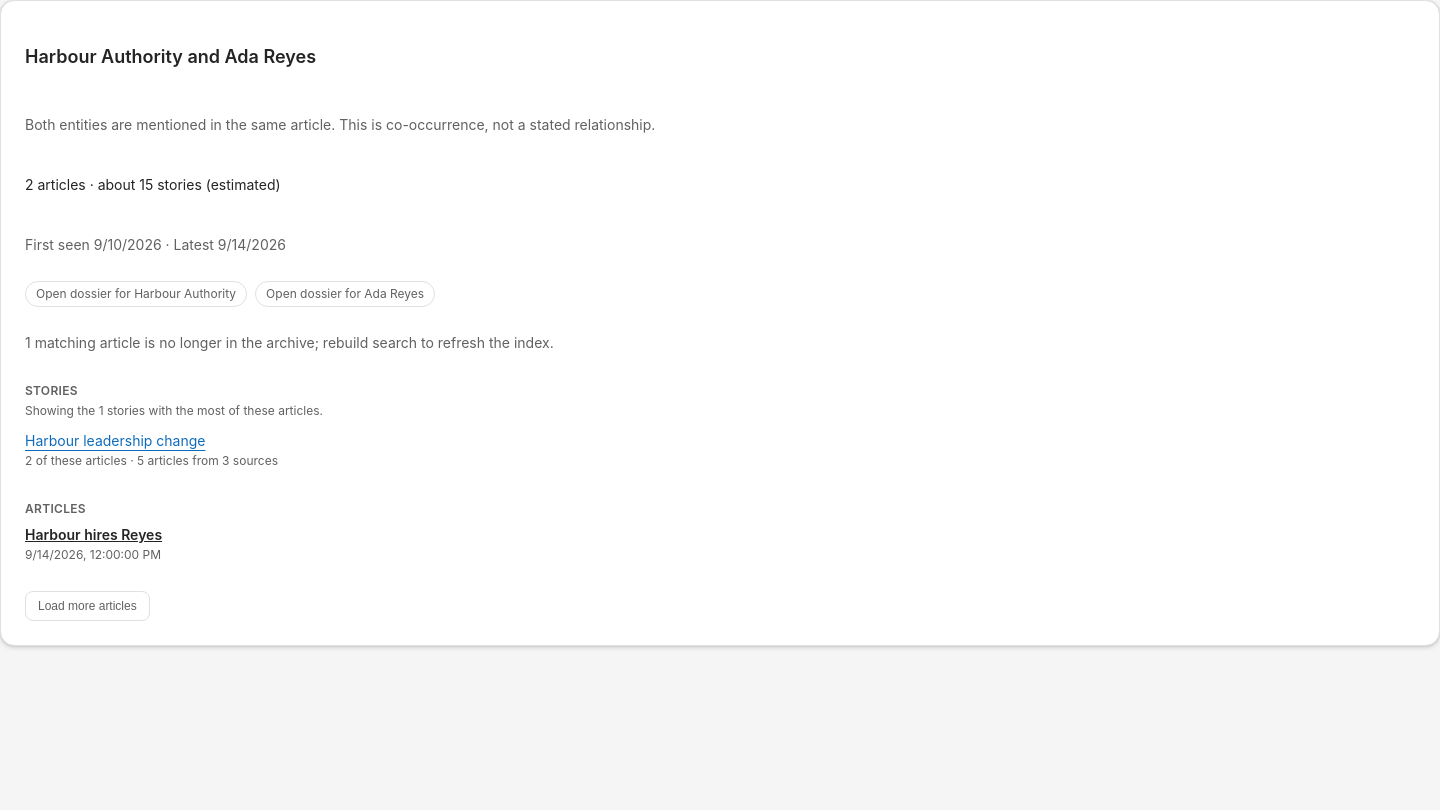
Scenario: sums archive gaps across pages and says when only the top stories are listed
Expected: the text "Showing the 1 stories with the most of these articles." is shown, [25,403,323,418]
Step 1. Click the button "Load more articles" → click(87, 606), box [25,591,150,621]
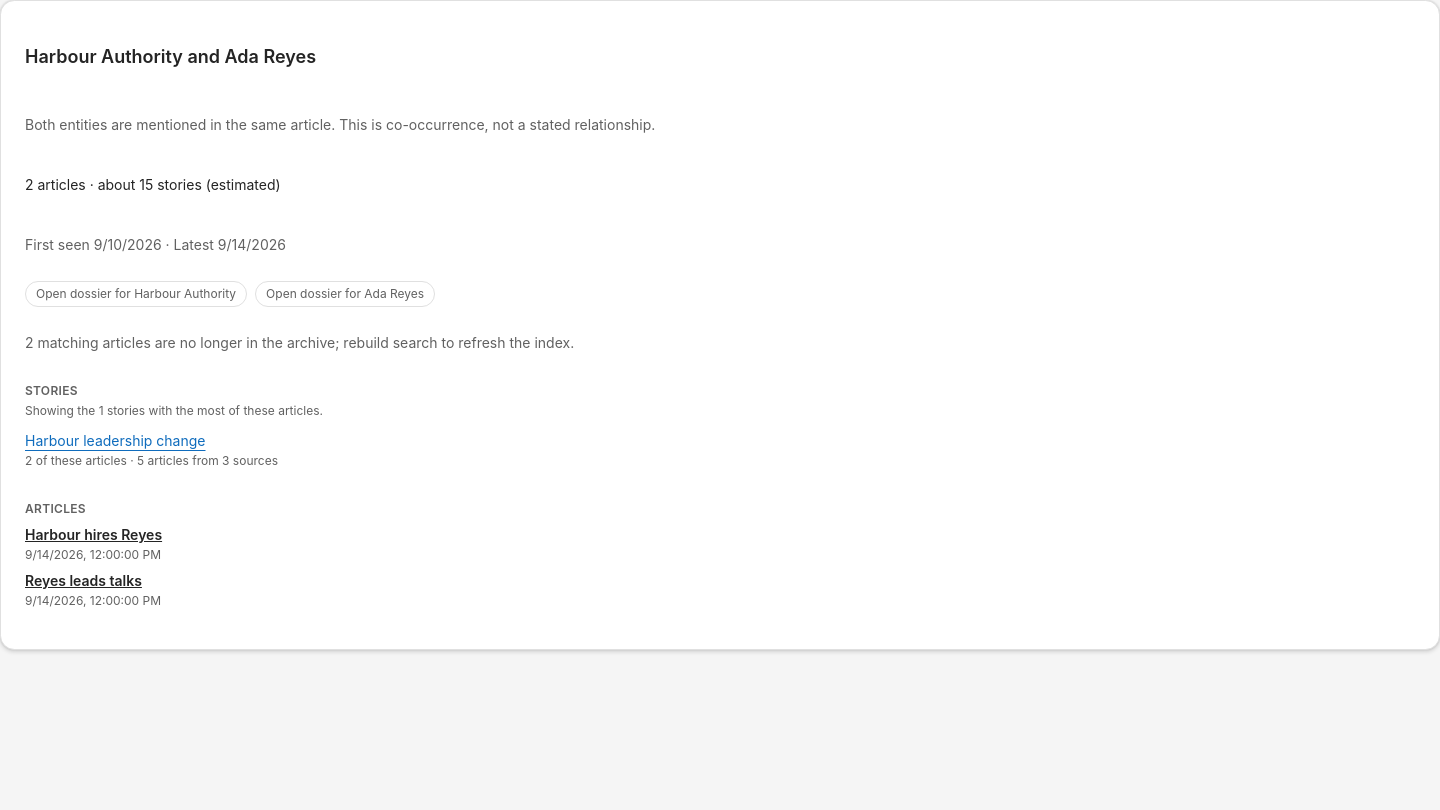
Expected: the text "2 matching articles are no longer in the archive; rebuild search to refresh the index." is shown, [25,334,574,351]
